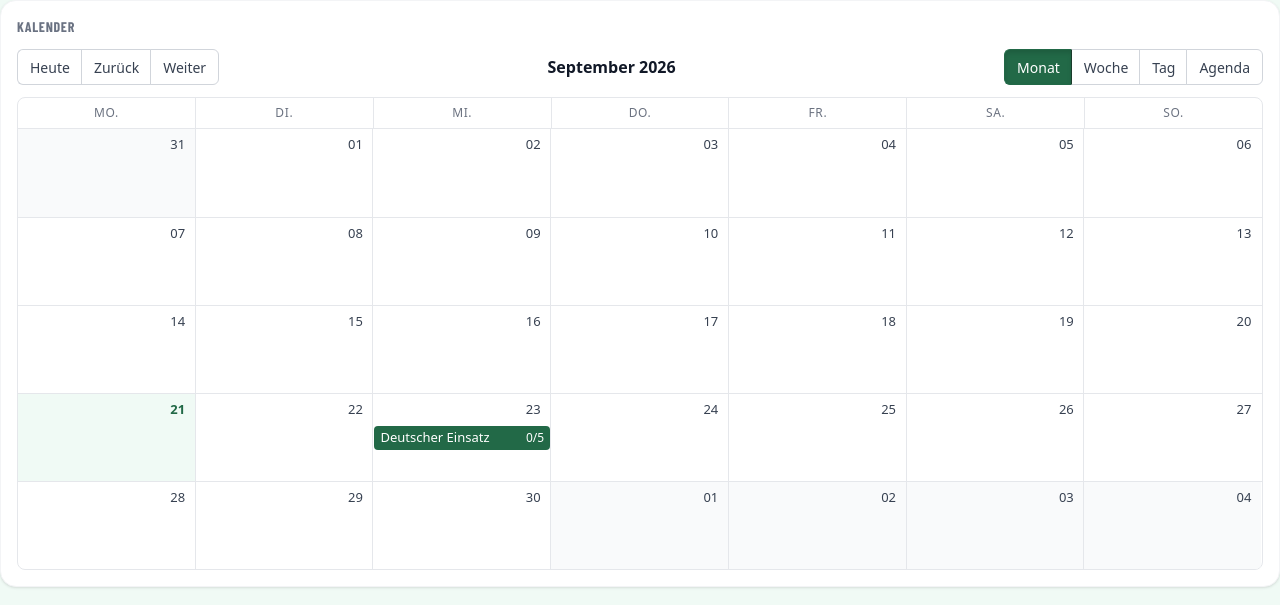
Scenario: CalendarWidget in German › renders German column headers in agenda view
Click the button "Agenda" at (1225, 67), box x1=1186 y1=49 x2=1263 y2=85
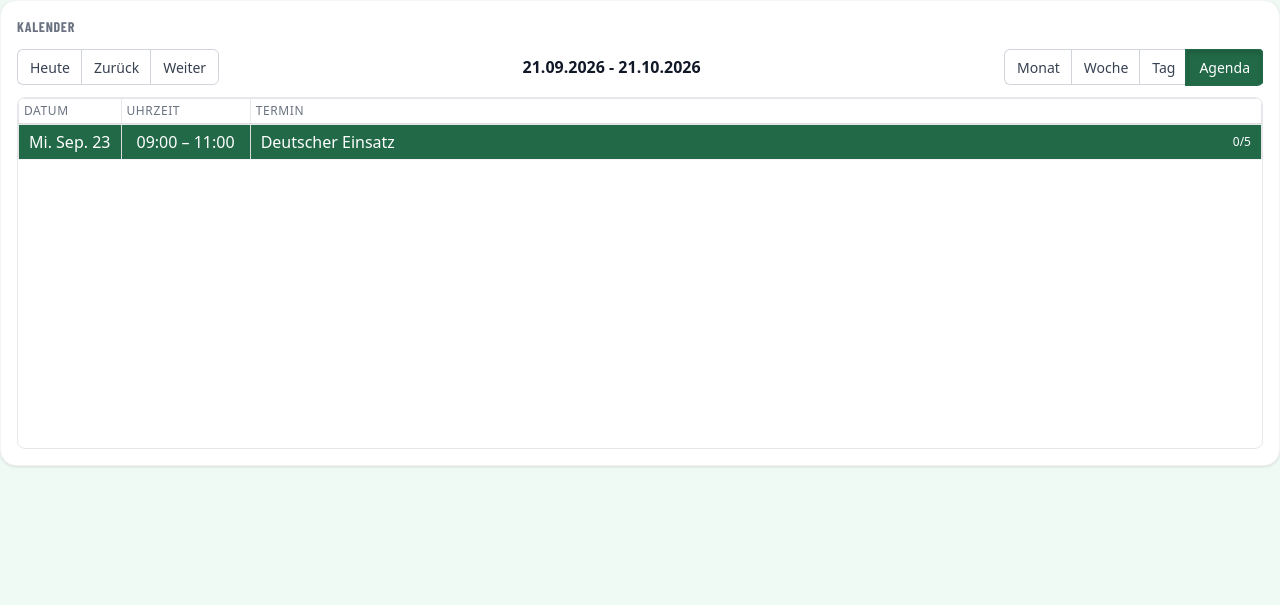
Now the element with class "rbc-agenda-view" is shown, box x1=17 y1=97 x2=1263 y2=449
Now the column heading "Datum" is shown, box x1=18 y1=98 x2=121 y2=124
Now the column heading "Uhrzeit" is shown, box x1=121 y1=98 x2=250 y2=124
